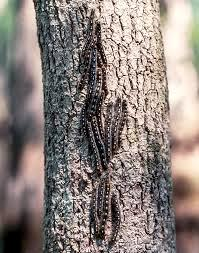Caterpillar: (85, 121, 103, 175), (87, 48, 100, 115), (113, 96, 127, 157), (87, 187, 102, 241), (98, 178, 110, 243), (75, 49, 93, 91), (110, 191, 123, 247), (95, 19, 110, 66), (82, 9, 95, 57), (80, 91, 93, 133), (103, 102, 111, 167), (102, 70, 113, 97)
